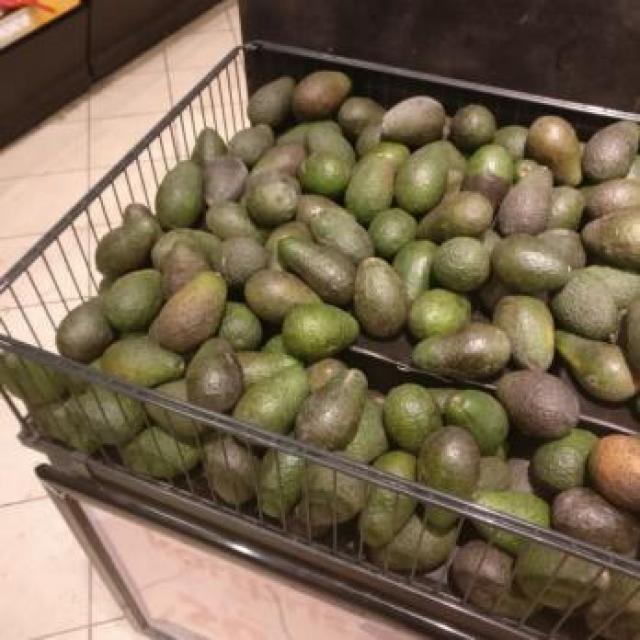Avocado: (295, 364, 372, 448), (276, 226, 360, 298), (149, 267, 221, 350), (502, 368, 579, 445), (405, 327, 515, 379), (500, 162, 559, 239), (278, 309, 368, 359), (190, 339, 245, 420), (498, 232, 574, 289), (361, 258, 407, 339), (346, 149, 390, 225), (401, 144, 445, 214)
